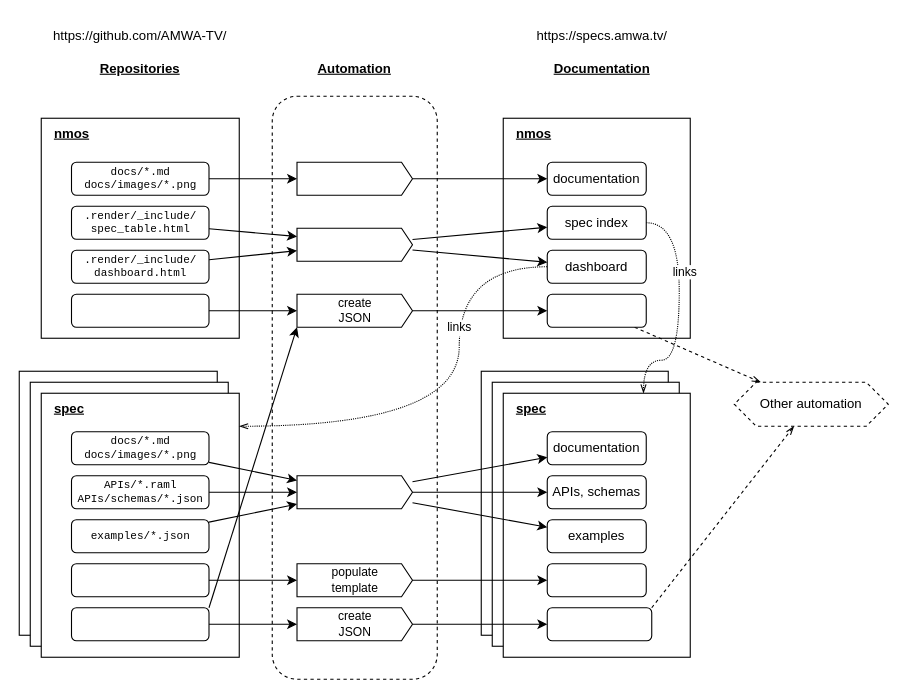
Some shapes in this 908 by 699 pixel diagram are drawn without their labels. The shapes that lost their labels are listed below. From the top down, each one's centre as x and y in pixels, then its label:
At pixel 354 178: "render documentation".
At pixel 354 244: "populate templates".
At pixel 139 310: ".render/_data/ spec_list.yml".
At pixel 596 310: "/specs.json".
At pixel 354 492: "render version trees".
At pixel 139 580: ".render/_include/ status.html".
At pixel 596 580: "status".
At pixel 139 624: ".render/_data/ spec.yml".
At pixel 599 624: "/spec.json".
